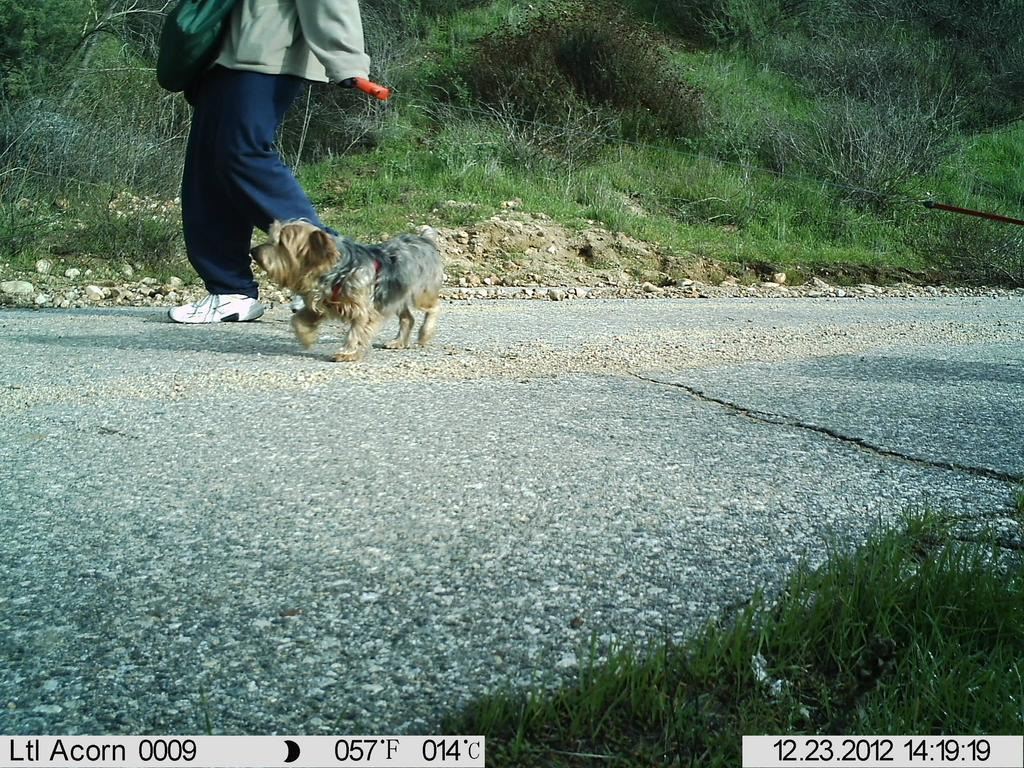dog: (249, 204, 465, 367)
